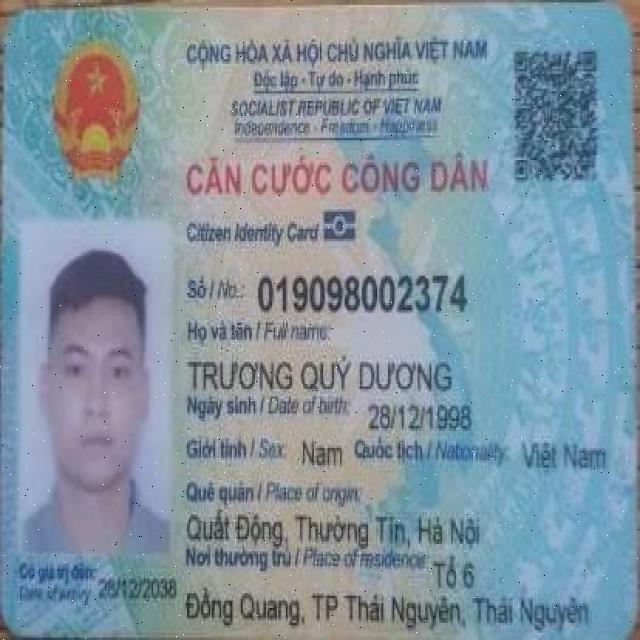current_place: (184, 588, 598, 633), (429, 555, 486, 591)
dob: (363, 397, 476, 435)
expire_date: (95, 565, 186, 607)
gender: (300, 432, 347, 471)
id: (253, 265, 473, 319)
name: (186, 350, 458, 395)
nationality: (516, 430, 612, 484)
origin_place: (180, 507, 489, 550)
qr: (504, 40, 604, 193)
